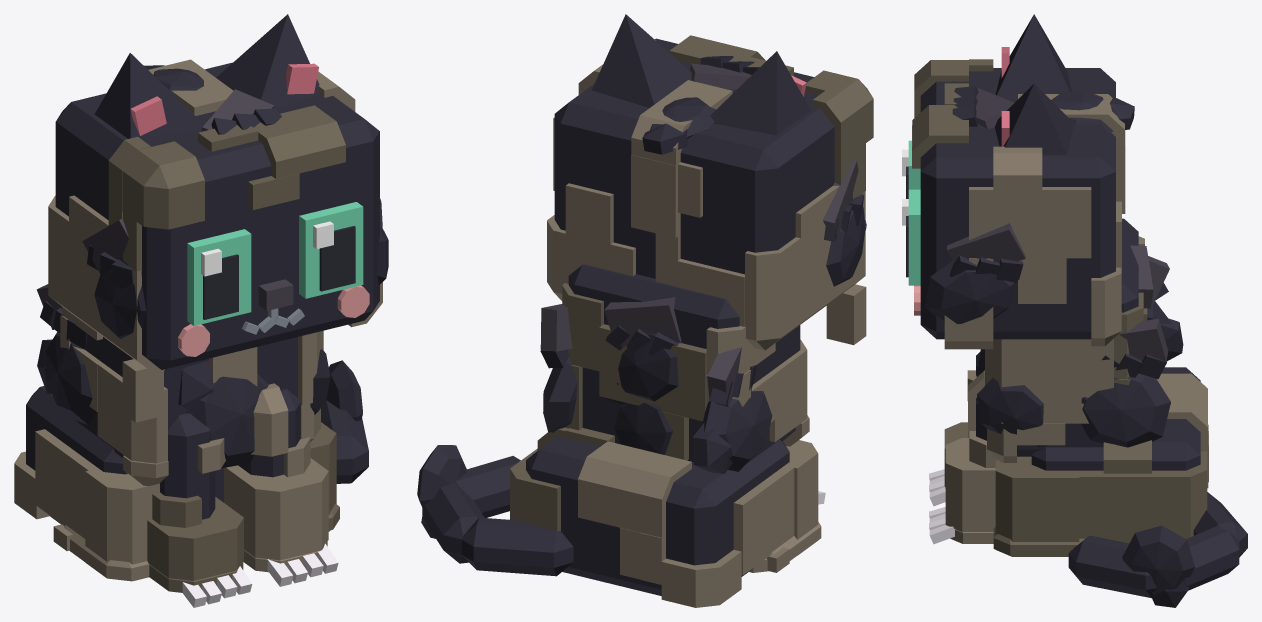
The model's file is CleanACat_Cat_Inky_Dirty_Sit.fbx.
The picture shows the model from 3 angles, left to right: view 1: azimuth 30°, elevation 25°; view 2: azimuth 150°, elevation 25°; view 3: azimuth 270°, elevation 25°; orthographic projection. The views are drawn at different scales.
Visible parts, largest first — view 1: CleanACat_Cat_Inky_Dirty_Sit_Head, CleanACat_Cat_Inky_Dirty_Sit_Mud17, CleanACat_Cat_Inky_Dirty_Sit_Mud01, CleanACat_Cat_Inky_Dirty_Sit_Mud06, CleanACat_Cat_Inky_Dirty_Sit_Mud18, CleanACat_Cat_Inky_Dirty_Sit_Body, CleanACat_Cat_Inky_Dirty_Sit_Mud16, CleanACat_Cat_Inky_Dirty_Sit_Mud03, CleanACat_Cat_Inky_Dirty_Sit_Mud14, CleanACat_Cat_Inky_Dirty_Sit_Mud10, CleanACat_Cat_Inky_Dirty_Sit_Eye1, CleanACat_Cat_Inky_Dirty_Sit_Eye2 (+23 smaller); view 2: CleanACat_Cat_Inky_Dirty_Sit_Head, CleanACat_Cat_Inky_Dirty_Sit_Body, CleanACat_Cat_Inky_Dirty_Sit_Mud01, CleanACat_Cat_Inky_Dirty_Sit_Tail, CleanACat_Cat_Inky_Dirty_Sit_Mud13, CleanACat_Cat_Inky_Dirty_Sit_Mud04, CleanACat_Cat_Inky_Dirty_Sit_Mud14, CleanACat_Cat_Inky_Dirty_Sit_Mud09, CleanACat_Cat_Inky_Dirty_Sit_Mud05, CleanACat_Cat_Inky_Dirty_Sit_EarL, CleanACat_Cat_Inky_Dirty_Sit_Mud06, CleanACat_Cat_Inky_Dirty_Sit_EarR (+17 smaller); view 3: CleanACat_Cat_Inky_Dirty_Sit_Head, CleanACat_Cat_Inky_Dirty_Sit_Mud02, CleanACat_Cat_Inky_Dirty_Sit_Mud12, CleanACat_Cat_Inky_Dirty_Sit_Mud08, CleanACat_Cat_Inky_Dirty_Sit_Mud15, CleanACat_Cat_Inky_Dirty_Sit_Tail, CleanACat_Cat_Inky_Dirty_Sit_Body, CleanACat_Cat_Inky_Dirty_Sit_Mud17, CleanACat_Cat_Inky_Dirty_Sit_Fluff05, CleanACat_Cat_Inky_Dirty_Sit_Fluff01, CleanACat_Cat_Inky_Dirty_Sit_Fluff09, CleanACat_Cat_Inky_Dirty_Sit_EarR (+19 smaller).
Part boxes in pixels (<box>): CleanACat_Cat_Inky_Dirty_Sit_Head: <box>55,62,379,369</box>; CleanACat_Cat_Inky_Dirty_Sit_Mud17: <box>224,437,328,572</box>; CleanACat_Cat_Inky_Dirty_Sit_Mud01: <box>48,195,164,422</box>; CleanACat_Cat_Inky_Dirty_Sit_Mud06: <box>108,136,204,271</box>; CleanACat_Cat_Inky_Dirty_Sit_Mud18: <box>147,492,243,592</box>; CleanACat_Cat_Inky_Dirty_Sit_Body: <box>26,334,297,524</box>; CleanACat_Cat_Inky_Dirty_Sit_Mud16: <box>64,468,159,581</box>; CleanACat_Cat_Inky_Dirty_Sit_Mud03: <box>198,105,345,209</box>; CleanACat_Cat_Inky_Dirty_Sit_Mud14: <box>14,429,97,550</box>; CleanACat_Cat_Inky_Dirty_Sit_Mud10: <box>73,346,168,486</box>; CleanACat_Cat_Inky_Dirty_Sit_Eye1: <box>299,202,363,298</box>; CleanACat_Cat_Inky_Dirty_Sit_Eye2: <box>187,229,251,325</box>; CleanACat_Cat_Inky_Dirty_Sit_Head: <box>554,38,834,278</box>; CleanACat_Cat_Inky_Dirty_Sit_Body: <box>526,264,800,595</box>; CleanACat_Cat_Inky_Dirty_Sit_Mud01: <box>677,185,866,350</box>; CleanACat_Cat_Inky_Dirty_Sit_Tail: <box>422,456,573,576</box>; CleanACat_Cat_Inky_Dirty_Sit_Mud13: <box>578,441,691,584</box>; CleanACat_Cat_Inky_Dirty_Sit_Mud04: <box>631,80,732,286</box>; CleanACat_Cat_Inky_Dirty_Sit_Mud14: <box>661,465,794,607</box>; CleanACat_Cat_Inky_Dirty_Sit_Mud09: <box>562,283,706,460</box>; CleanACat_Cat_Inky_Dirty_Sit_Mud05: <box>547,183,635,301</box>; CleanACat_Cat_Inky_Dirty_Sit_EarL: <box>592,14,691,107</box>; CleanACat_Cat_Inky_Dirty_Sit_Mud06: <box>805,70,873,198</box>; CleanACat_Cat_Inky_Dirty_Sit_EarR: <box>710,51,810,135</box>; CleanACat_Cat_Inky_Dirty_Sit_Head: <box>914,68,1115,339</box>; CleanACat_Cat_Inky_Dirty_Sit_Mud02: <box>944,146,1091,349</box>; CleanACat_Cat_Inky_Dirty_Sit_Mud12: <box>1079,440,1207,543</box>; CleanACat_Cat_Inky_Dirty_Sit_Mud08: <box>985,338,1113,462</box>; CleanACat_Cat_Inky_Dirty_Sit_Mud15: <box>993,456,1085,556</box>; CleanACat_Cat_Inky_Dirty_Sit_Tail: <box>1068,492,1247,598</box>; CleanACat_Cat_Inky_Dirty_Sit_Body: <box>1017,218,1200,470</box>; CleanACat_Cat_Inky_Dirty_Sit_Mud17: <box>945,431,998,543</box>; CleanACat_Cat_Inky_Dirty_Sit_Fluff05: <box>1081,373,1170,447</box>; CleanACat_Cat_Inky_Dirty_Sit_Fluff01: <box>925,261,1016,324</box>; CleanACat_Cat_Inky_Dirty_Sit_Fluff09: <box>1122,525,1194,607</box>; CleanACat_Cat_Inky_Dirty_Sit_EarR: <box>995,14,1071,99</box>.
Size of the model in its own units: 1.3 by 1.86 by 1.24.
1 material, 1 textured.
